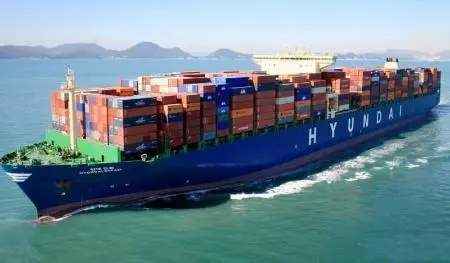Cargoship: (1, 40, 443, 216)
